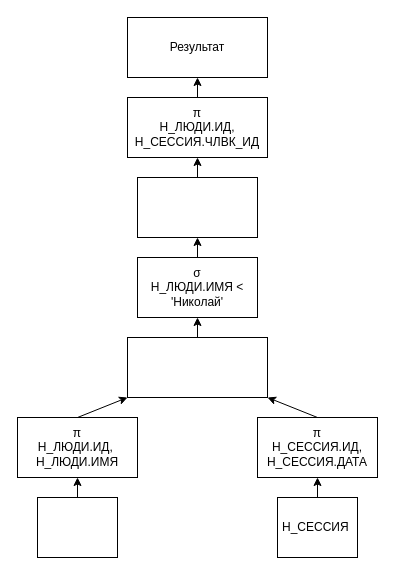
Some shapes in this 395 by 575 pixel diagram are drawn without their labels. Each missing label, with the centre of its shape:
"σ Н_СЕССИЯ.ДАТА <= '2004-01-17'" goes at [197,207].
"Н_ЛЮДИ" goes at [77,527].
"⋈ Н_ЛЮДИ.ИД = Н_СЕССИЯ.ЧЛВК_ИД" goes at [197,367].
